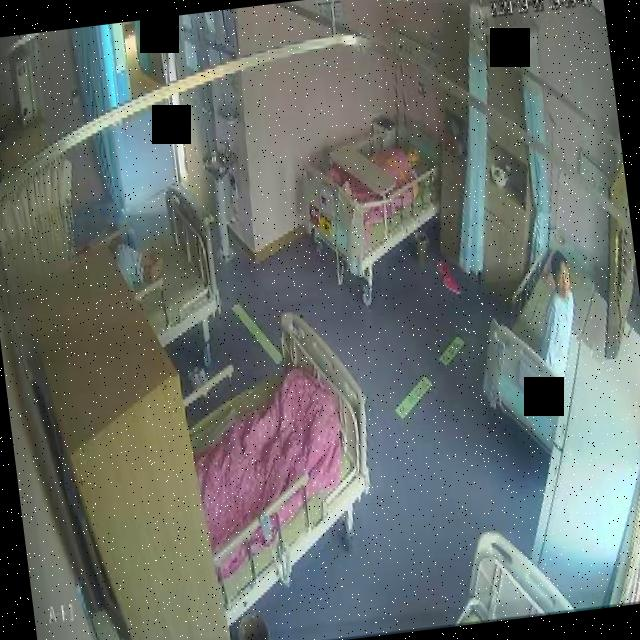bed: (175, 312, 381, 596), (466, 228, 607, 460), (296, 116, 452, 280), (112, 180, 225, 347)
patient: (526, 250, 584, 379)
sit: (524, 248, 584, 378)
